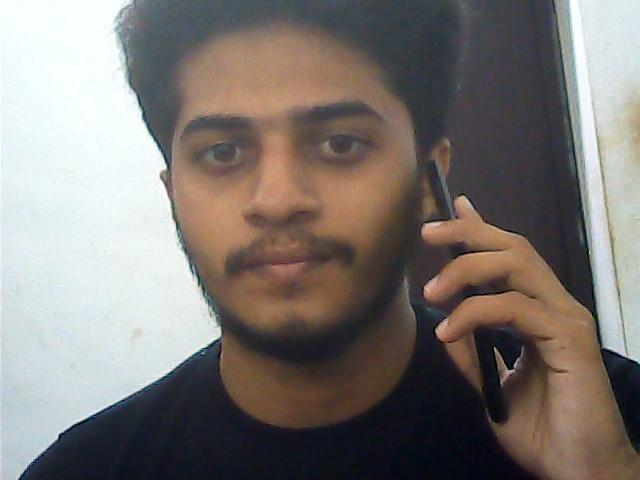PhoneUse: (418, 160, 520, 426)
SafeDriving: (296, 114, 384, 168), (183, 123, 266, 178)
